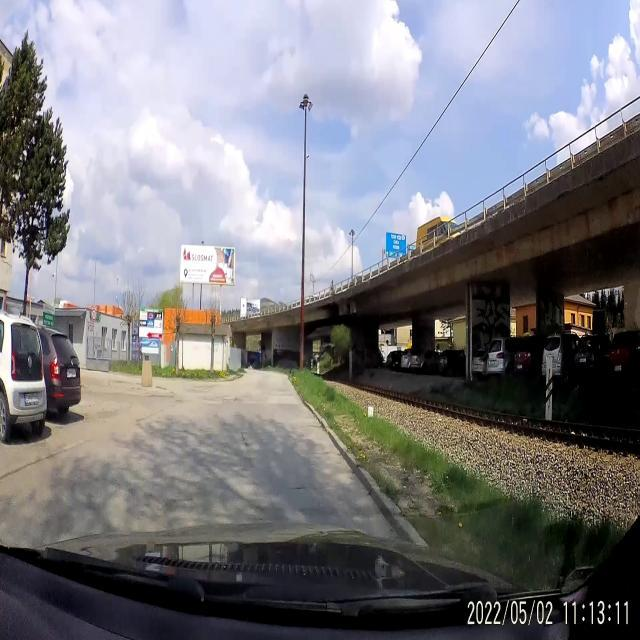Pothole: (236, 427, 254, 468)
